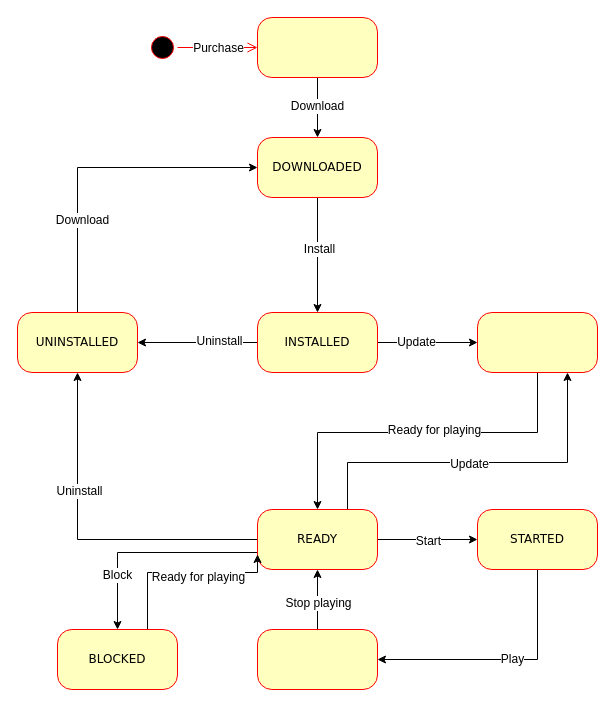
The diagram is 615 pixels wide and 707 high, and some of its shapes have lost their labels. The shapes that lost their labels are listed below. From the top down, each one's centre as x and y in pixels, then its label:
At (317,47): "PURCHASED".
At (537,342): "UPDATED".
At (317,659): "PLAYED".
